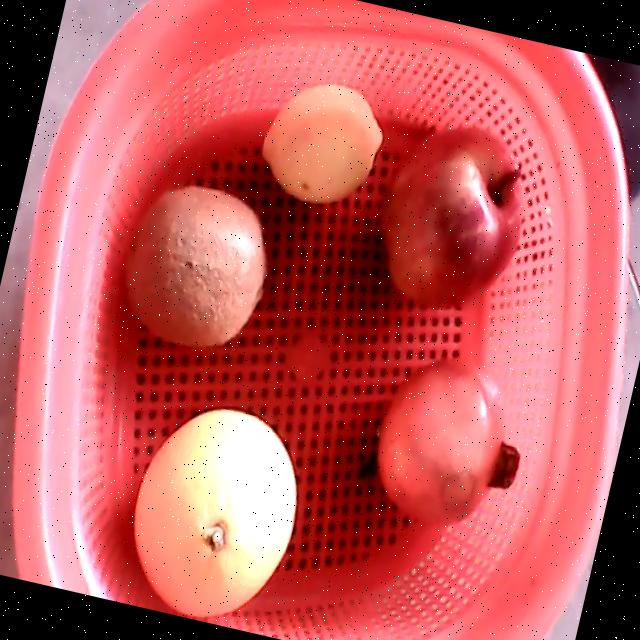apple: (380, 123, 524, 309)
kiwi: (123, 186, 267, 348)
lemon: (262, 85, 383, 203)
orange: (132, 410, 297, 618)
pomegranate: (375, 356, 521, 530)
